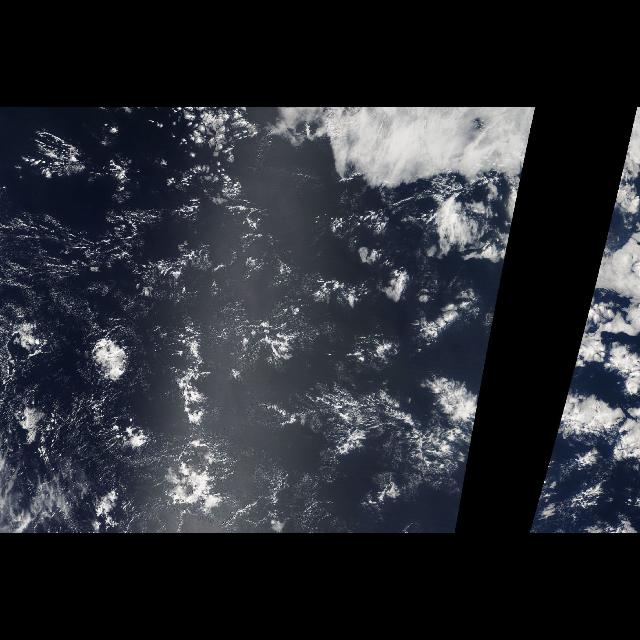Fish: (162, 340, 490, 518), (532, 340, 640, 518)
Gravel: (5, 115, 317, 325)
